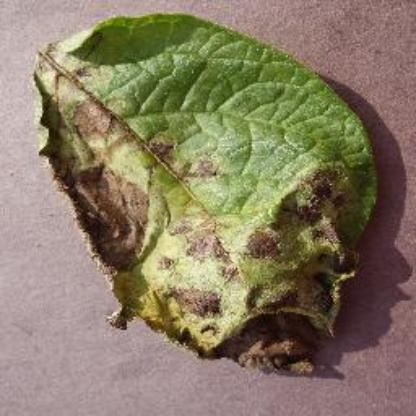Late-Blight: (34, 11, 388, 375)
